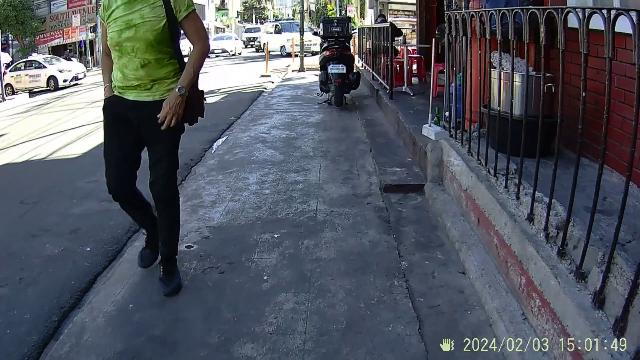motorcycle: (302, 9, 382, 122)
